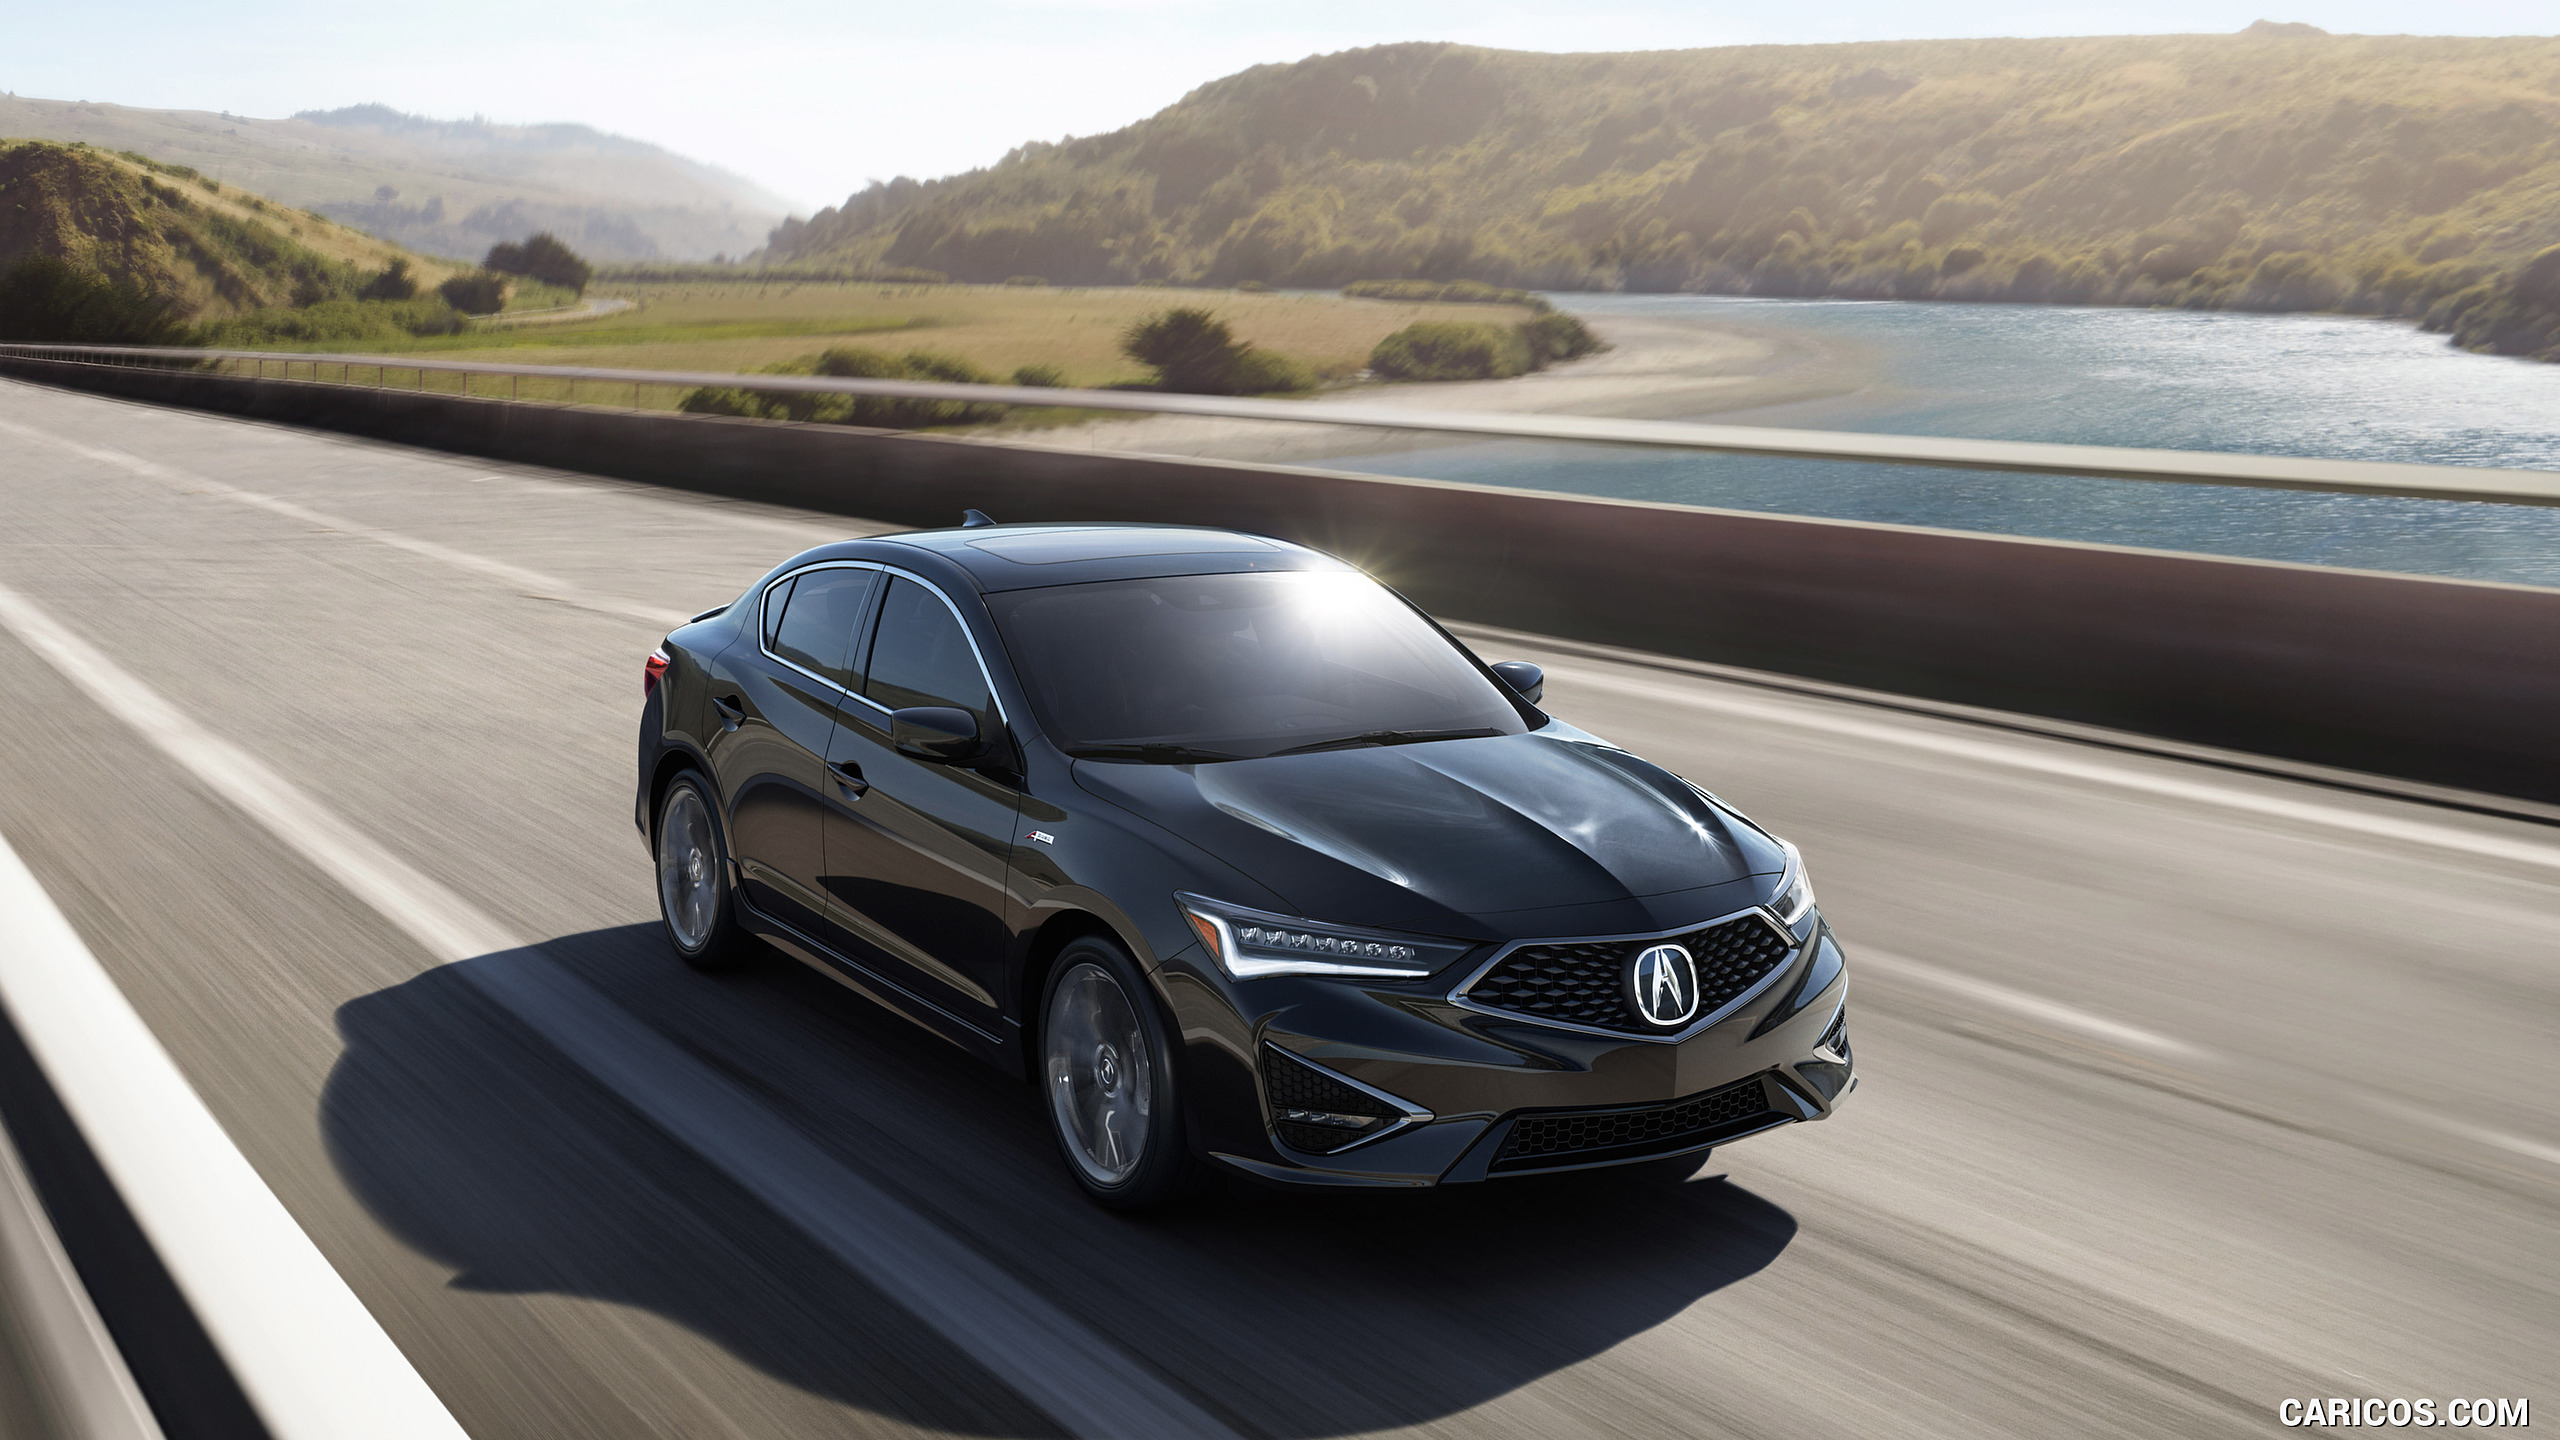Fog Lamp & Scope: (1257, 1081, 1401, 1152)
Front: (1062, 781, 1853, 1162)
Front Bumper: (1213, 988, 1844, 1176)
Grill: (1477, 913, 1781, 1036)
Headlight: (1183, 900, 1456, 988)
